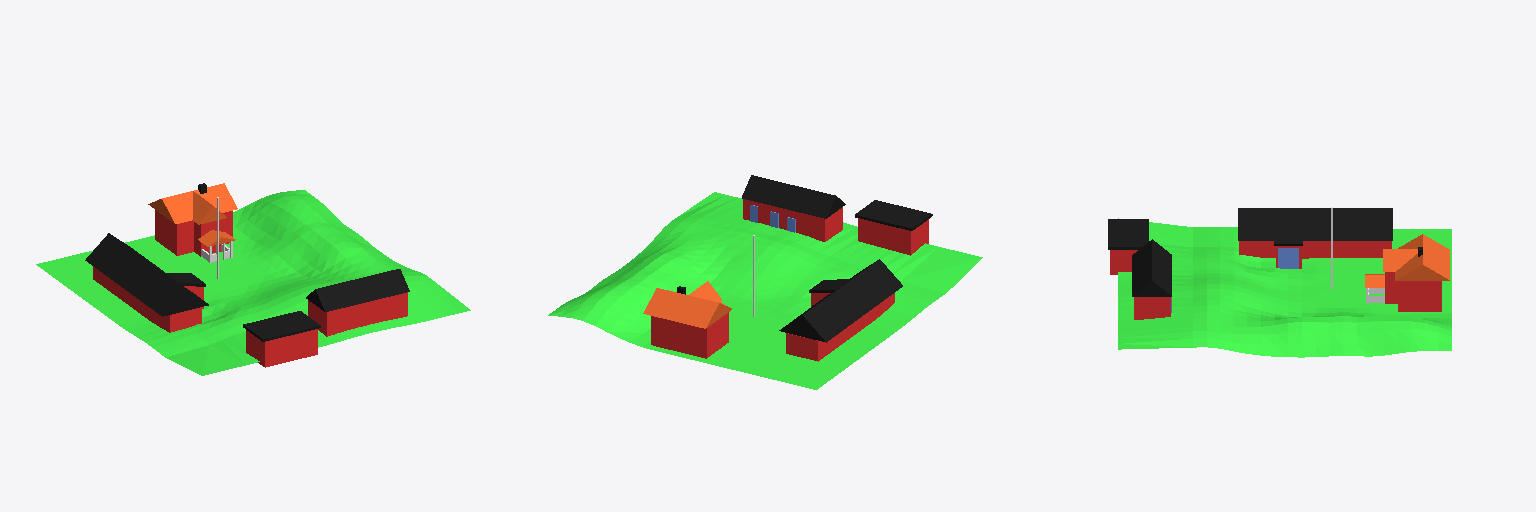
Rendered from garden.obj.
3 views of the same model, side by side, from view 1: azimuth 30°, elevation 25°; view 2: azimuth 150°, elevation 25°; view 3: azimuth 270°, elevation 25° (orthographic).
Visible parts, largest first — view 1: polySurface4; view 2: polySurface4; view 3: polySurface4.
Boxes of the visible parts, <box> form: polySurface4: <box>36,183,470,375</box>; polySurface4: <box>548,175,982,389</box>; polySurface4: <box>1108,207,1451,357</box>.
Size of the model in its own units: 39.82 by 11.97 by 44.08.